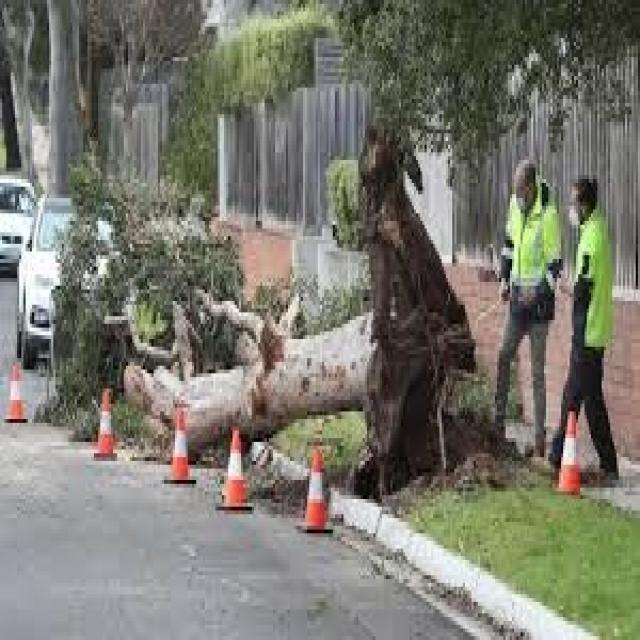fallen_object: (41, 163, 532, 478)
